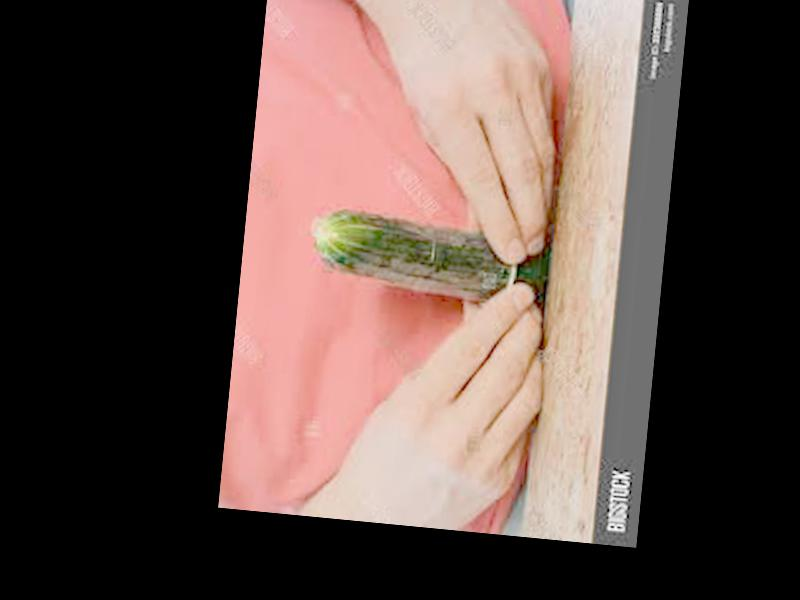Cucumber: (308, 205, 551, 306)
